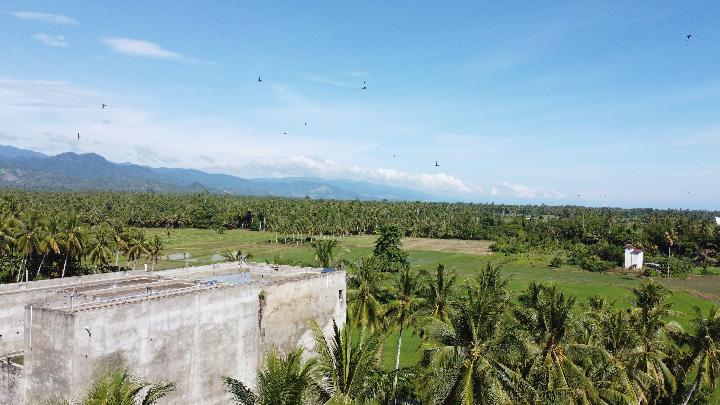walet: (356, 78, 368, 92), (434, 160, 439, 168), (258, 75, 262, 83), (686, 35, 690, 42), (76, 133, 80, 139), (102, 104, 106, 110), (576, 194, 582, 198), (304, 122, 308, 126), (394, 154, 396, 158), (284, 133, 286, 135)
